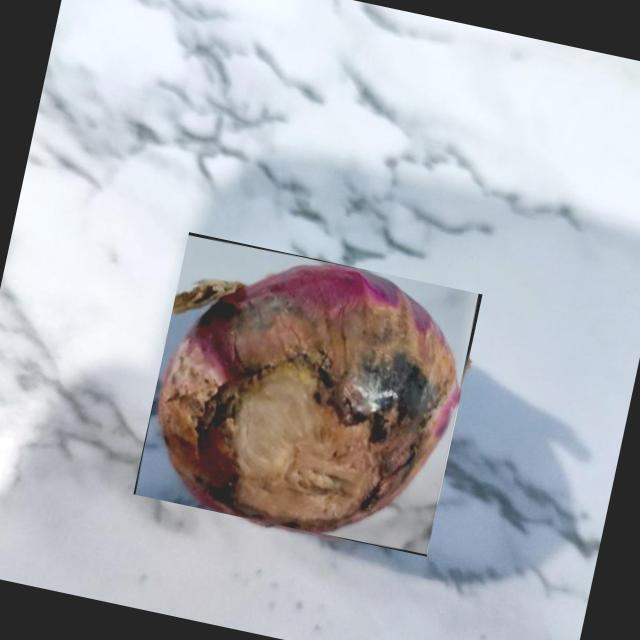rotten: (160, 265, 460, 532)
